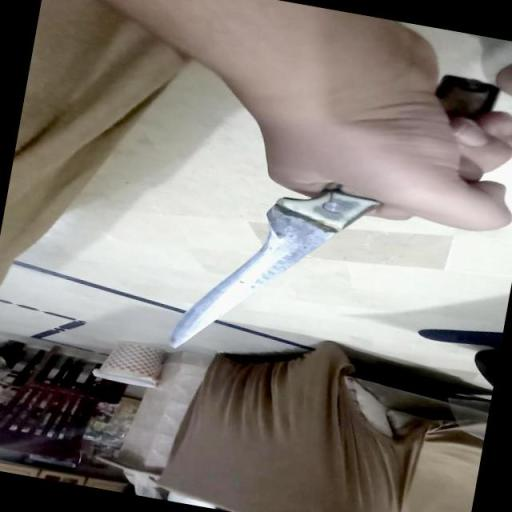knife: (164, 33, 500, 396)
